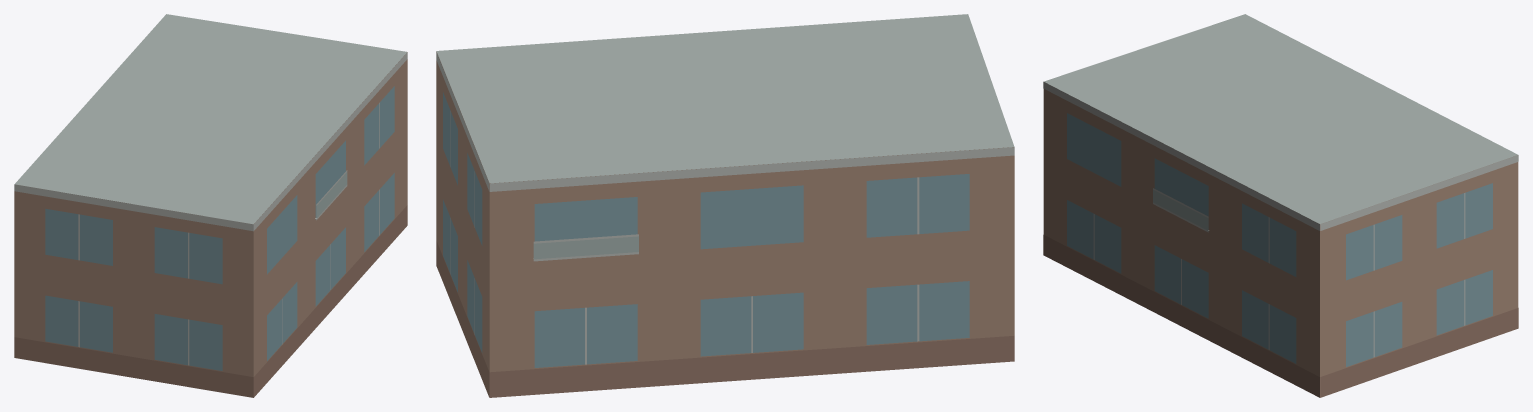
File: survey-upis-32996263.glb
3 renders of one model, left to right at view 1: azimuth 30°, elevation 25°; view 2: azimuth 150°, elevation 25°; view 3: azimuth 270°, elevation 25°, orthographic. The views are drawn at different scales.
Parts seen in each view (by area): view 1: survey-upis-32996263.tmp; view 2: survey-upis-32996263.tmp; view 3: survey-upis-32996263.tmp.
Boxes of the visible parts, x1,y1,x2,y2 form: survey-upis-32996263.tmp: (14, 14, 407, 397); survey-upis-32996263.tmp: (436, 14, 1014, 397); survey-upis-32996263.tmp: (1043, 14, 1518, 397).
Bounding box in the file's own units: 15.85 × 6.1 × 15.13.
